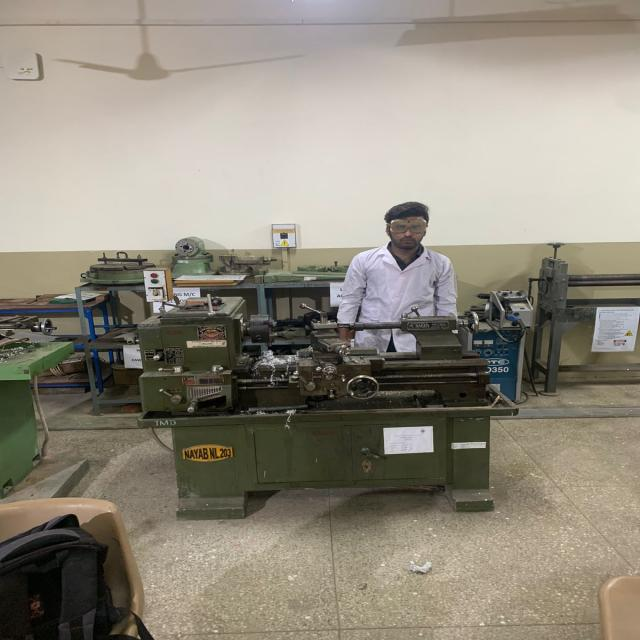googles: (386, 216, 429, 234)
labcoat: (336, 239, 458, 354)
